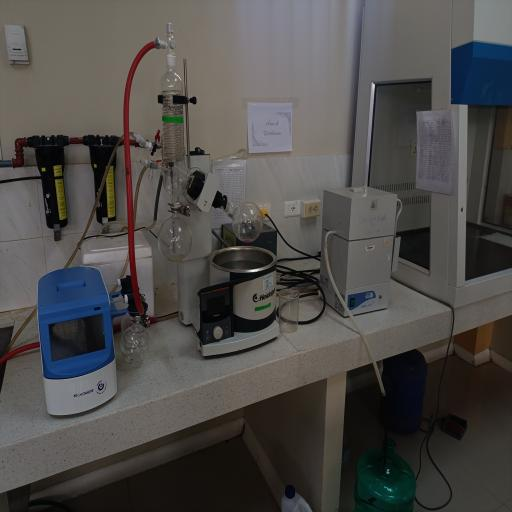Destilador_agua: (316, 172, 403, 330)
